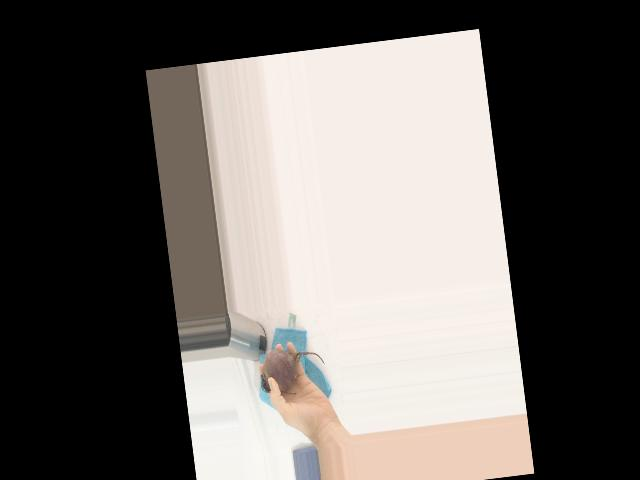beet: (257, 343, 327, 397)
